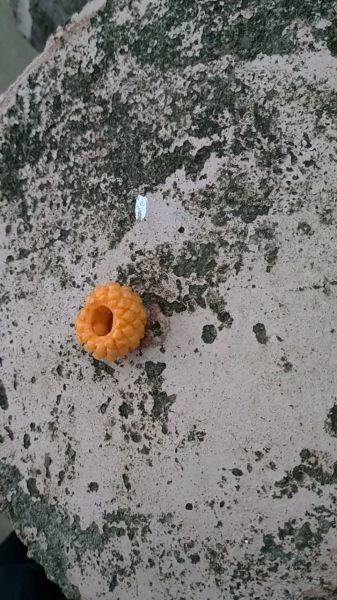eggs: (73, 277, 149, 361)
